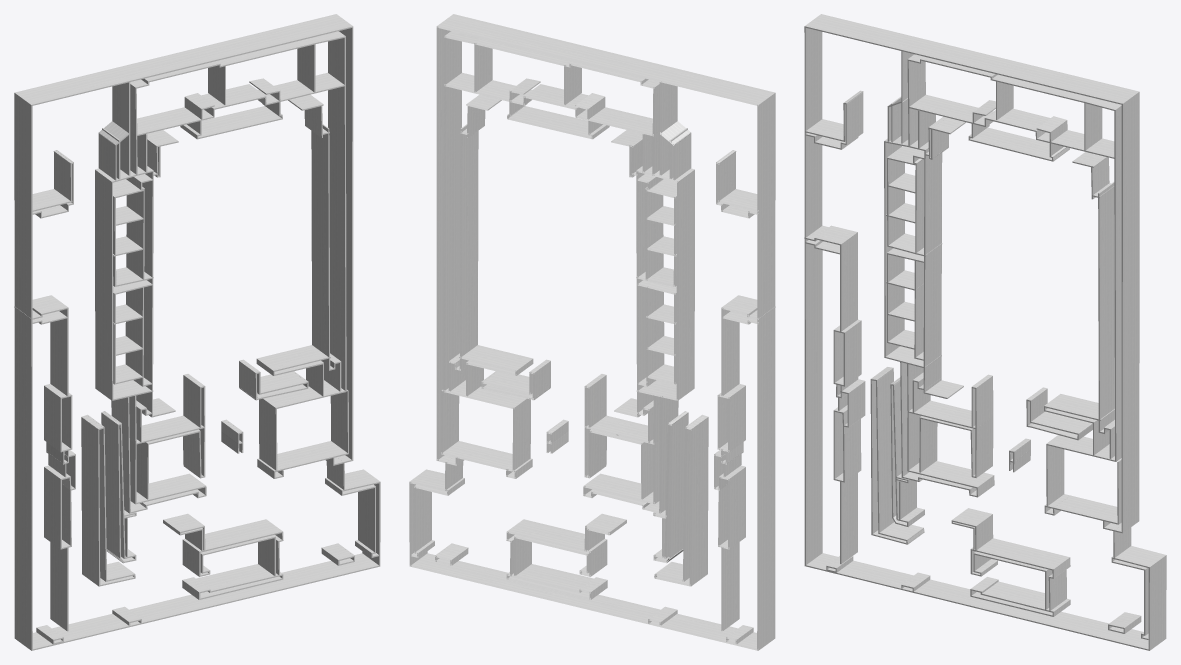
The model's file is wall_1.obj.
The picture shows the model from 3 angles, left to right: view 1: azimuth 30°, elevation 25°; view 2: azimuth 150°, elevation 25°; view 3: azimuth 330°, elevation 25°; orthographic projection.
Parts seen in each view (by area): view 1: walls; view 2: walls; view 3: walls.
Boxes of the visible parts, bbox=[...] form: walls: bbox=[14, 14, 380, 650]; walls: bbox=[409, 14, 775, 650]; walls: bbox=[804, 14, 1166, 650].
Size of the model in its own units: 29.83 by 44.61 by 2.5.
